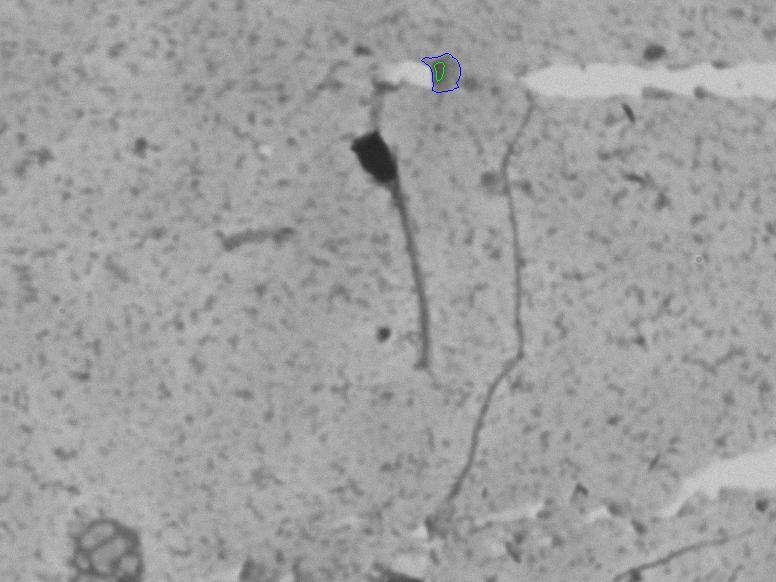Abnormal: (318, 107, 454, 381)
